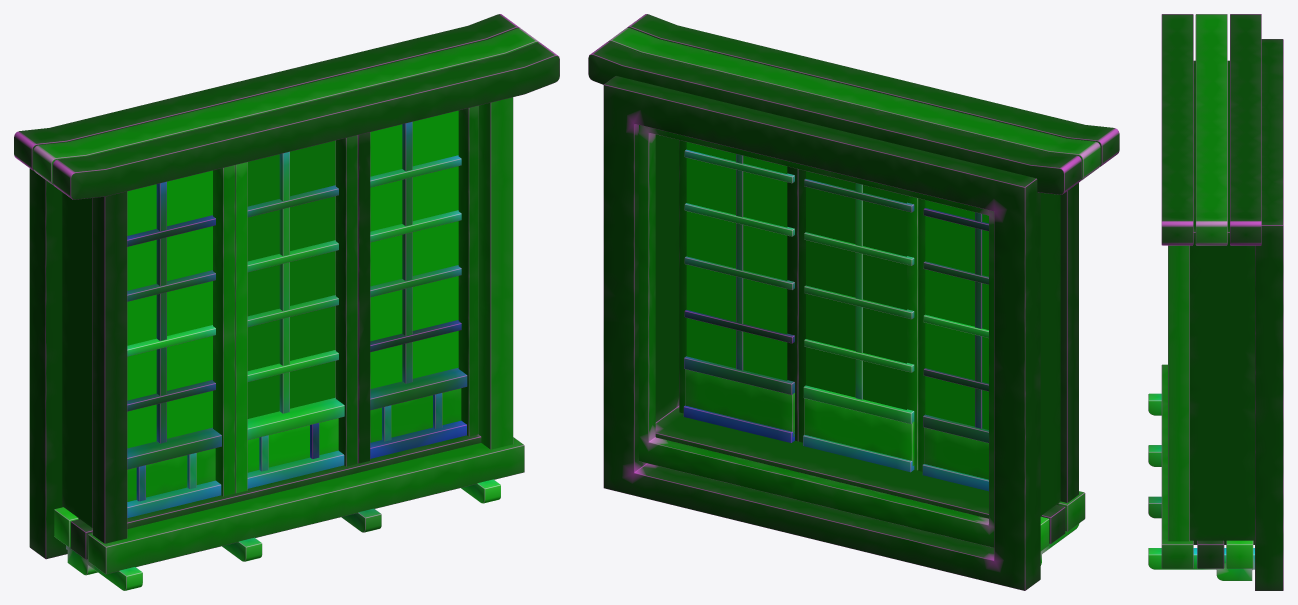
The model's file is window_400x350_08.fbx.
The picture shows the model from 3 angles, left to right: view 1: azimuth 30°, elevation 25°; view 2: azimuth 150°, elevation 25°; view 3: azimuth 270°, elevation 25°; orthographic projection. The views are drawn at different scales.
Visible parts, largest first — view 1: window_400x350_08; view 2: window_400x350_08; view 3: window_400x350_08.
Boxes of the visible parts, <box> form: window_400x350_08: <box>14,14,559,590</box>; window_400x350_08: <box>588,14,1119,590</box>; window_400x350_08: <box>1148,14,1283,590</box>.
Size of the model in its own units: 3.54 by 3.03 by 0.9613.
